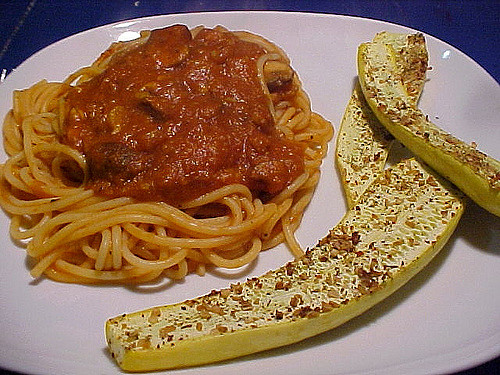plain spaghetti: (17, 58, 299, 252)
